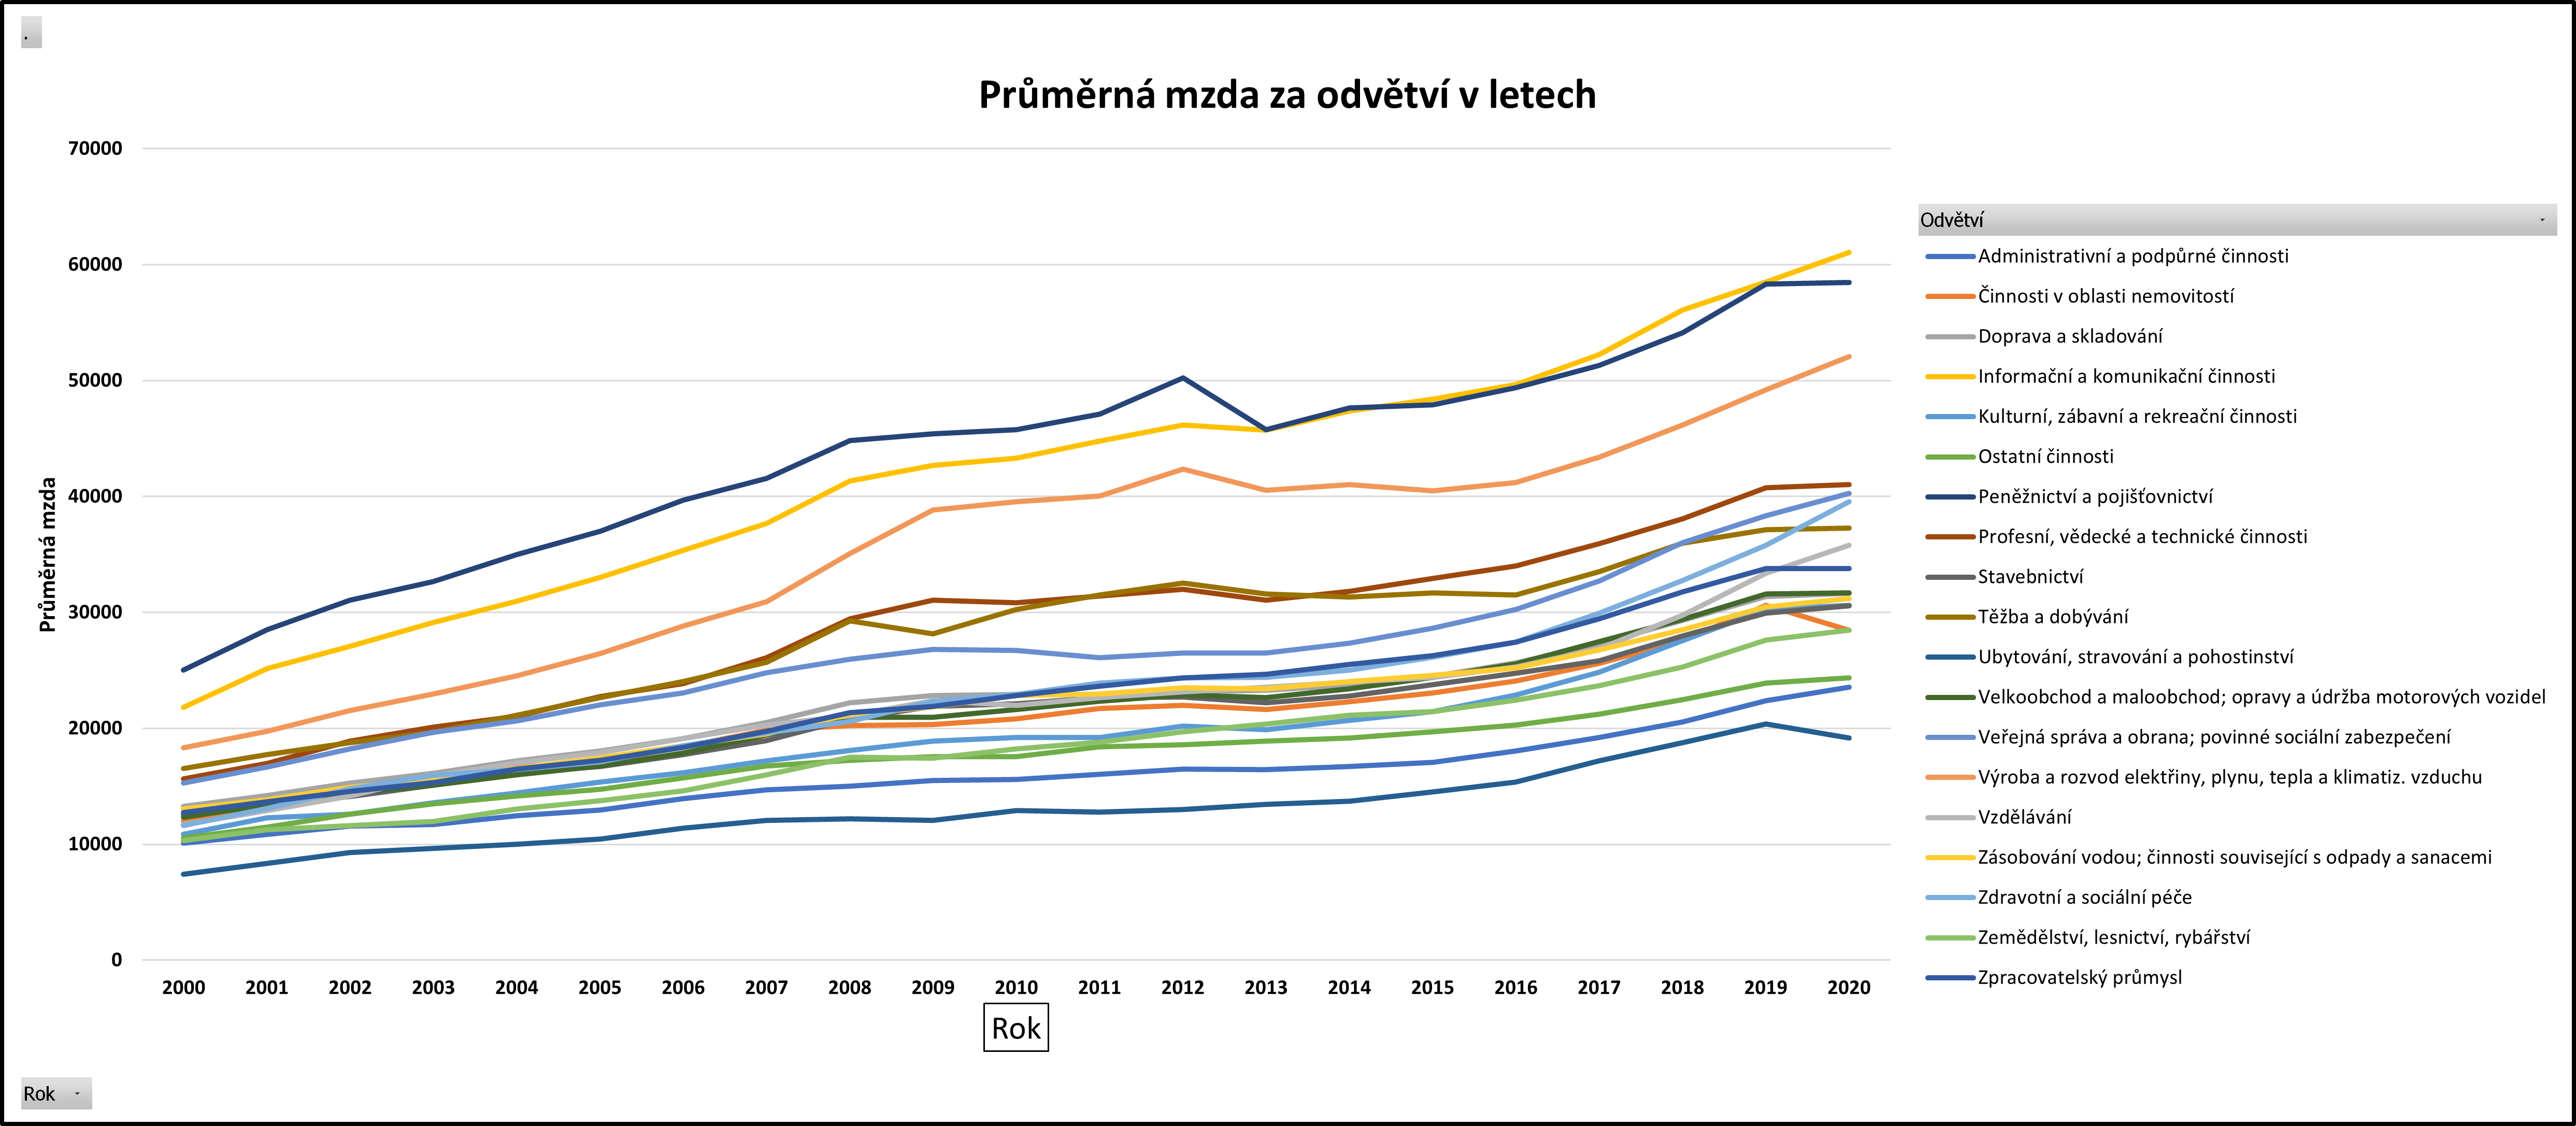

This screenshot's page, from the dashboard's own definition file:
{"tool":"powerbi","page":{"name":"PAYROLL","canvas":[1280,720],"ordinal":0},"visuals":[{"type":"lineChart","title":"Average wage by year","fields":{"Y":["Avg(czechia_payroll_202302171705.value)"],"Category":["czechia_payroll.payroll_year Hierarchy.payroll_year","czechia_payroll.payroll_year Hierarchy.payroll_quarter"]},"box":[9.7,108.9,699.3,280.1],"z":0},{"type":"slicer","fields":{"Values":["czechia_payroll_industry_branch_202302171705.name"]},"box":[723.6,108.9,324.9,583.6],"z":1000},{"type":"lineChart","title":"Average wage by year","fields":{"Y":["Min(czechia_payroll_202302171705.value)","Max(czechia_payroll.value)"],"Category":["czechia_payroll.payroll_year Hierarchy.payroll_year","czechia_payroll.payroll_year Hierarchy.payroll_quarter"]},"box":[9.7,413.4,699.3,279.1],"z":2000},{"type":"textbox","box":[307.4,18.5,682.8,69.1],"z":3000},{"type":"shape","box":[0,78,1280,20],"z":4000},{"type":"actionButton","title":"next page","box":[1149,13,125,56],"z":5000},{"type":"card","fields":{"Values":["Max(czechia_payroll.value)"]},"box":[1063.1,108.9,203.3,147.8],"z":6000},{"type":"slicer","fields":{"Values":["czechia_payroll.payroll_year Hierarchy.payroll_year","czechia_payroll.payroll_year Hierarchy.payroll_quarter"]},"box":[1063.1,275.3,203.3,254.8],"z":7000},{"type":"kpi","title":"Median of wage","fields":{"TrendLine":["czechia_payroll.payroll_year Hierarchy.payroll_year"],"Indicator":["Median(czechia_payroll.value)"]},"box":[1063.1,546.6,203.3,145.9],"z":8000}]}

Visuals, with their boxes on the page's 1280x720 design canvas (x1, y1, x2, y2). These are canvas units, not pixel positions in the 2576x1126 screenshot, which may show the page scaled, cropped or inside an application window:
"Average wage by year" lineChart: (x1=10, y1=109, x2=709, y2=389)
slicer - czechia_payroll_industry_branch_202302171705.name: (x1=724, y1=109, x2=1048, y2=692)
"Average wage by year" lineChart: (x1=10, y1=413, x2=709, y2=692)
textbox: (x1=307, y1=18, x2=990, y2=88)
shape: (x1=0, y1=78, x2=1280, y2=98)
"next page" actionButton: (x1=1149, y1=13, x2=1274, y2=69)
card - Max(czechia_payroll.value): (x1=1063, y1=109, x2=1266, y2=257)
slicer - czechia_payroll.payroll_year Hierarchy.payroll_year x czechia_payroll.payroll_year Hierarchy.payroll_quarter: (x1=1063, y1=275, x2=1266, y2=530)
"Median of wage" kpi: (x1=1063, y1=547, x2=1266, y2=692)
